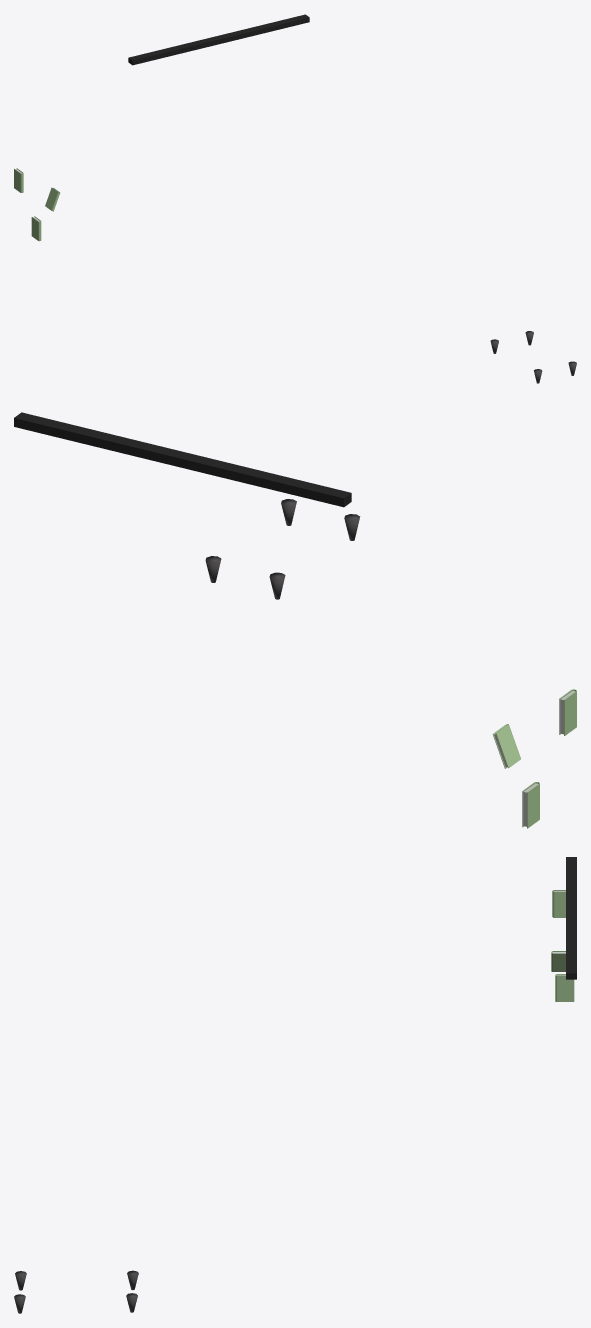
File: room_escape_new_grey.obj
The picture shows the model from 3 angles, top to bottom: view 1: azimuth 30°, elevation 25°; view 2: azimuth 150°, elevation 25°; view 3: azimuth 270°, elevation 25°; orthographic projection. The views are drawn at different scales.
Parts seen in each view (by area): view 1: VenetianFrame_window_shades; view 2: VenetianFrame_window_shades, Cube.031_grey_white_book, Cube.020_grey_white_book, Cube.008_grey_white_book; view 3: VenetianFrame_window_shades.
Part boxes in pixels (x1=…): VenetianFrame_window_shades: x1=128, y1=14, x2=309, y2=65; VenetianFrame_window_shades: x1=14, y1=412, x2=351, y2=507; Cube.031_grey_white_book: x1=492, y1=724, x2=520, y2=768; Cube.020_grey_white_book: x1=559, y1=689, x2=576, y2=735; Cube.008_grey_white_book: x1=522, y1=782, x2=539, y2=828; VenetianFrame_window_shades: x1=566, y1=857, x2=576, y2=979.
Bounding box in the file's own units: 6.65 × 3.98 × 6.76.
